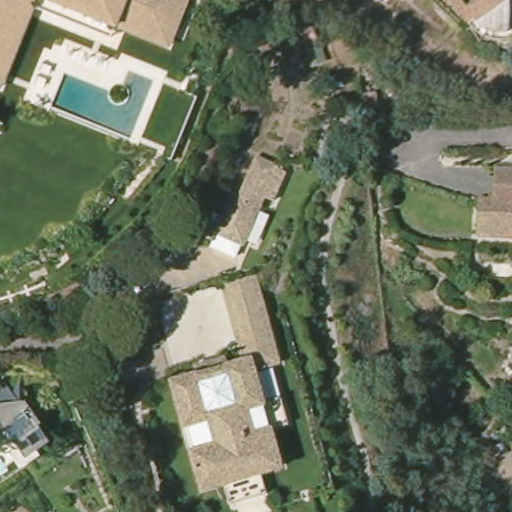pool: (56, 66, 154, 144)
